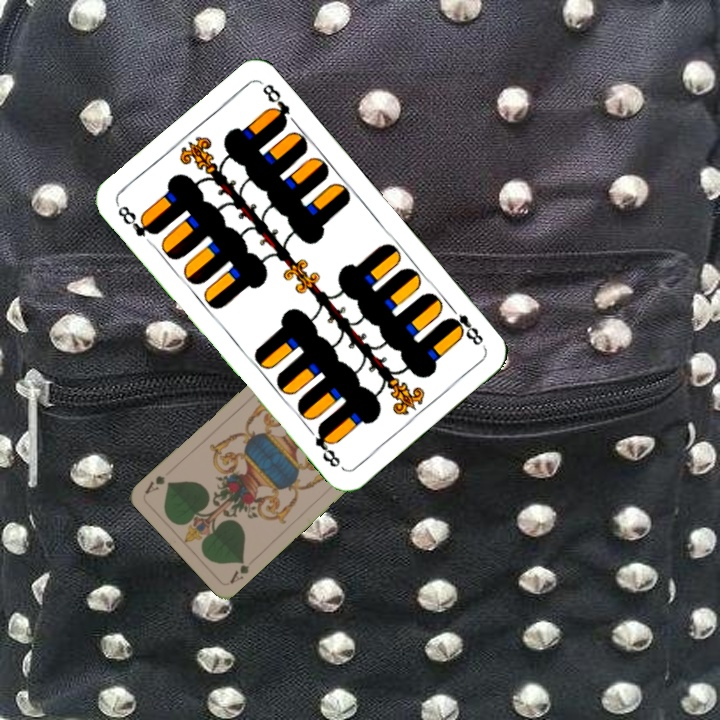E8: (443, 301, 486, 348), (113, 201, 161, 240)
GA: (225, 555, 252, 586)
